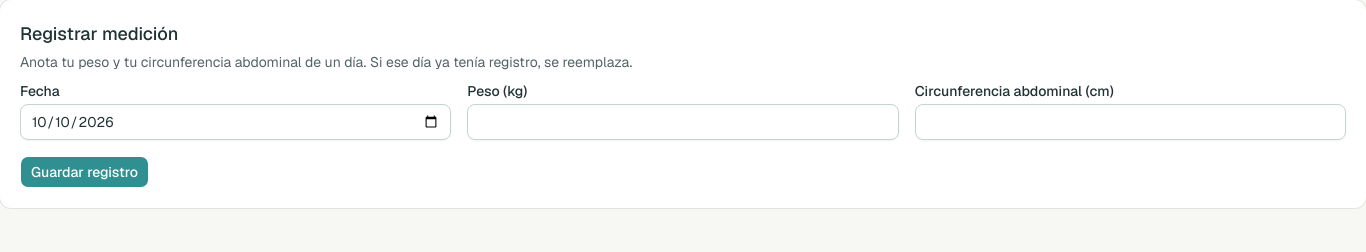
Scenario: MeasurementForm › flags a value with more than one decimal and does not submit
Type "80.12" into the field labelled "Peso (kg)". click: (683, 122)
box: [467, 104, 899, 140]
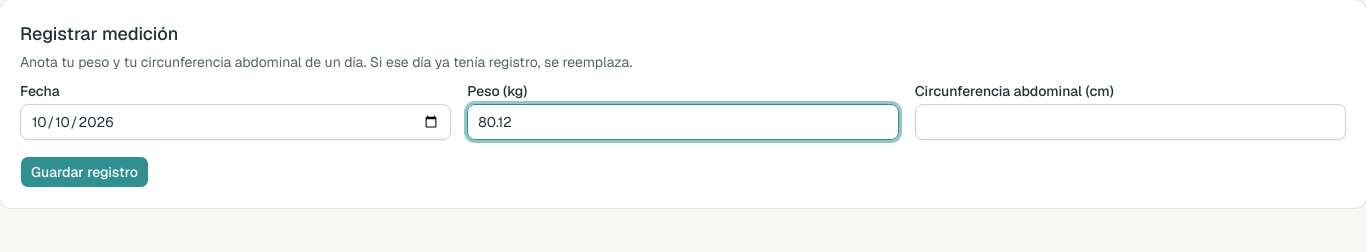
Type "94.8" into the field labelled "Circunferencia abdominal (cm)". click: (1130, 122)
box: [915, 104, 1346, 140]
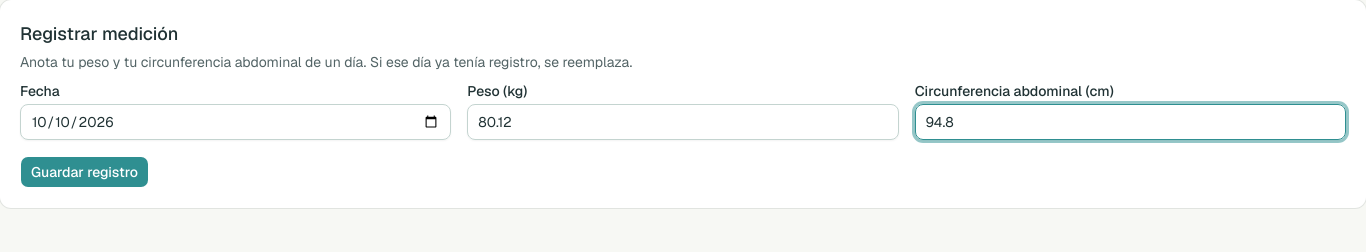
Click the button "Guardar registro". click: (84, 172)
box: [20, 156, 149, 188]
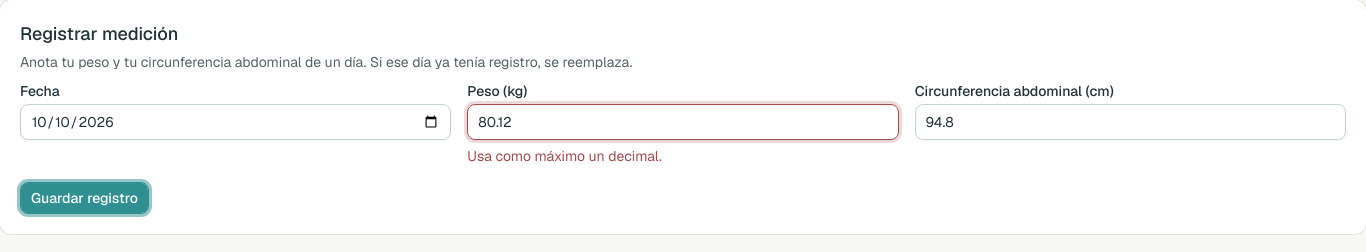
Now the text "Usa como máximo un decimal." is shown, box [467, 147, 662, 165]
